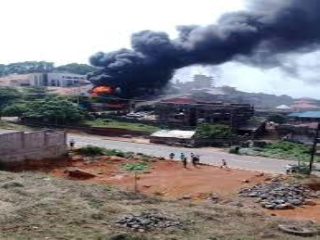fire: (91, 83, 112, 97)
smoke: (82, 13, 313, 86)
